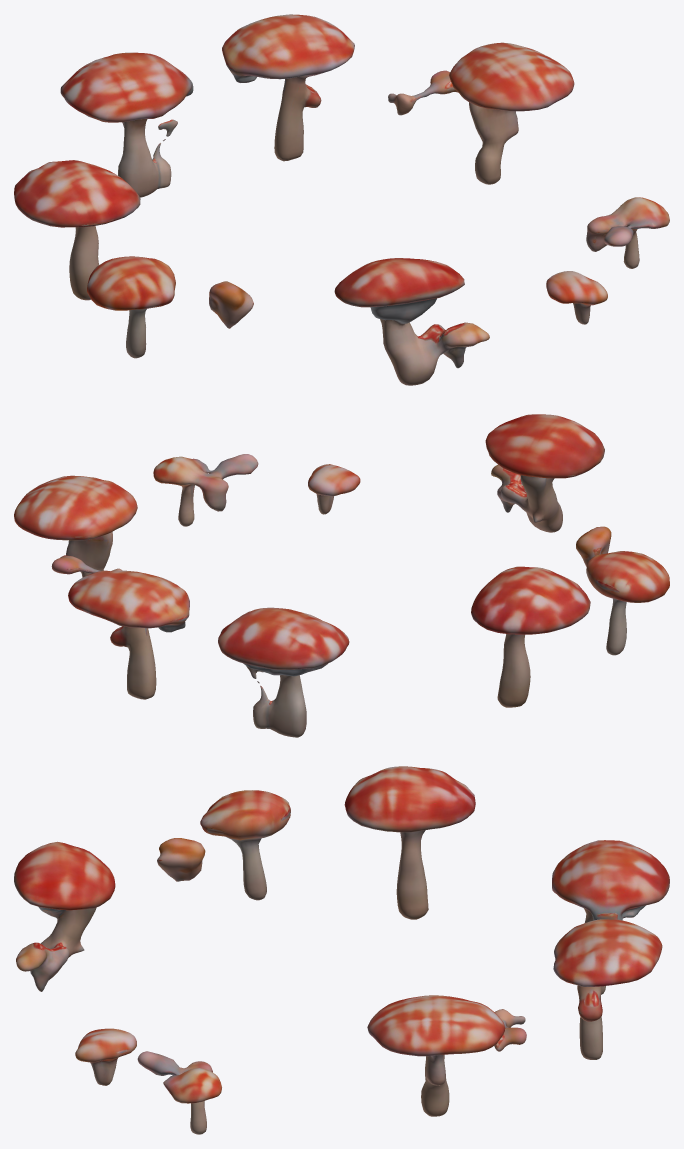
Rendered from 39b6f2bd186a_Mushrooms_form_a_ci.fbx.
The picture shows the model from 3 angles, top to bottom: view 1: azimuth 30°, elevation 25°; view 2: azimuth 150°, elevation 25°; view 3: azimuth 270°, elevation 25°; orthographic projection. The views are drawn at different scales.
Visible parts, largest first — view 1: mesh; view 2: mesh; view 3: mesh.
Part boxes in pixels (x1,y1,x2,y2): mesh: [14, 14, 669, 385]; mesh: [14, 414, 669, 737]; mesh: [14, 766, 669, 1134].
Bounding box in the file's own units: 99.91 × 23.06 × 99.73.
